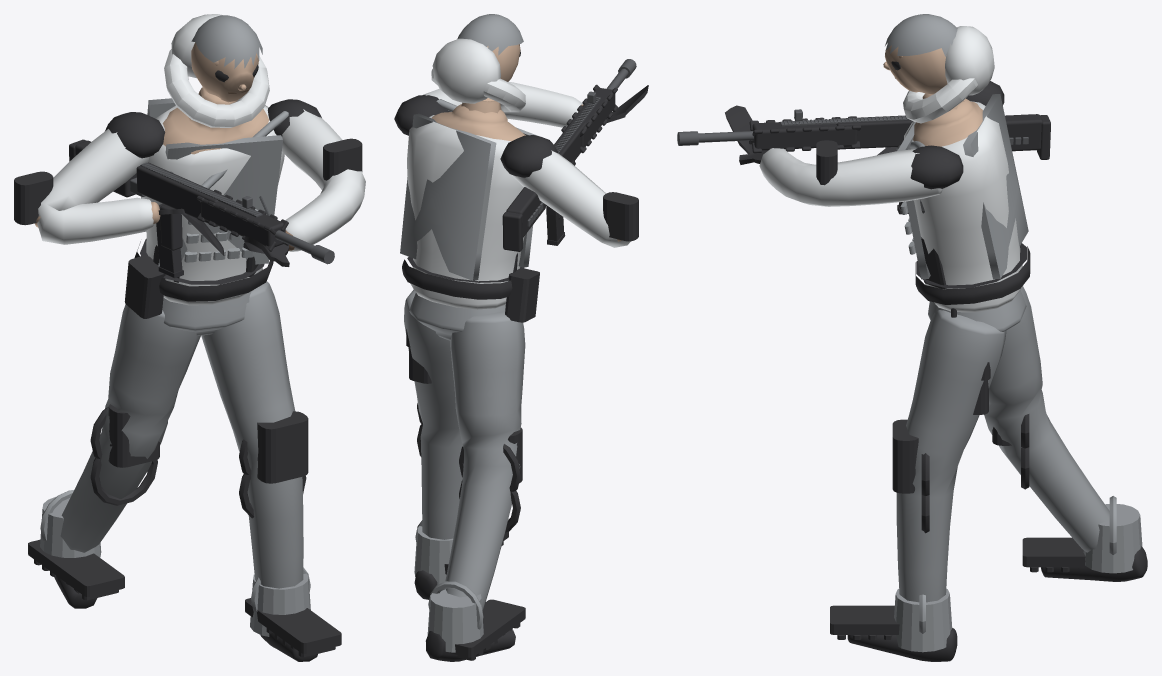
Rendered from arctic-station-fps-kit-defender-medium-aiming-a2b714ff__28517.glb.
3 renders of one model, left to right at view 1: azimuth 30°, elevation 25°; view 2: azimuth 150°, elevation 25°; view 3: azimuth 270°, elevation 25°, orthographic. The views are drawn at different scales.
Parts seen in each view (by area): view 1: defender-medium-aiming; view 2: defender-medium-aiming; view 3: defender-medium-aiming.
Part boxes in pixels (<box>): defender-medium-aiming: <box>14,14,365,661</box>; defender-medium-aiming: <box>394,14,648,661</box>; defender-medium-aiming: <box>677,14,1147,661</box>.
Size of the model in its own units: 0.8103 by 1.76 by 1.21.
